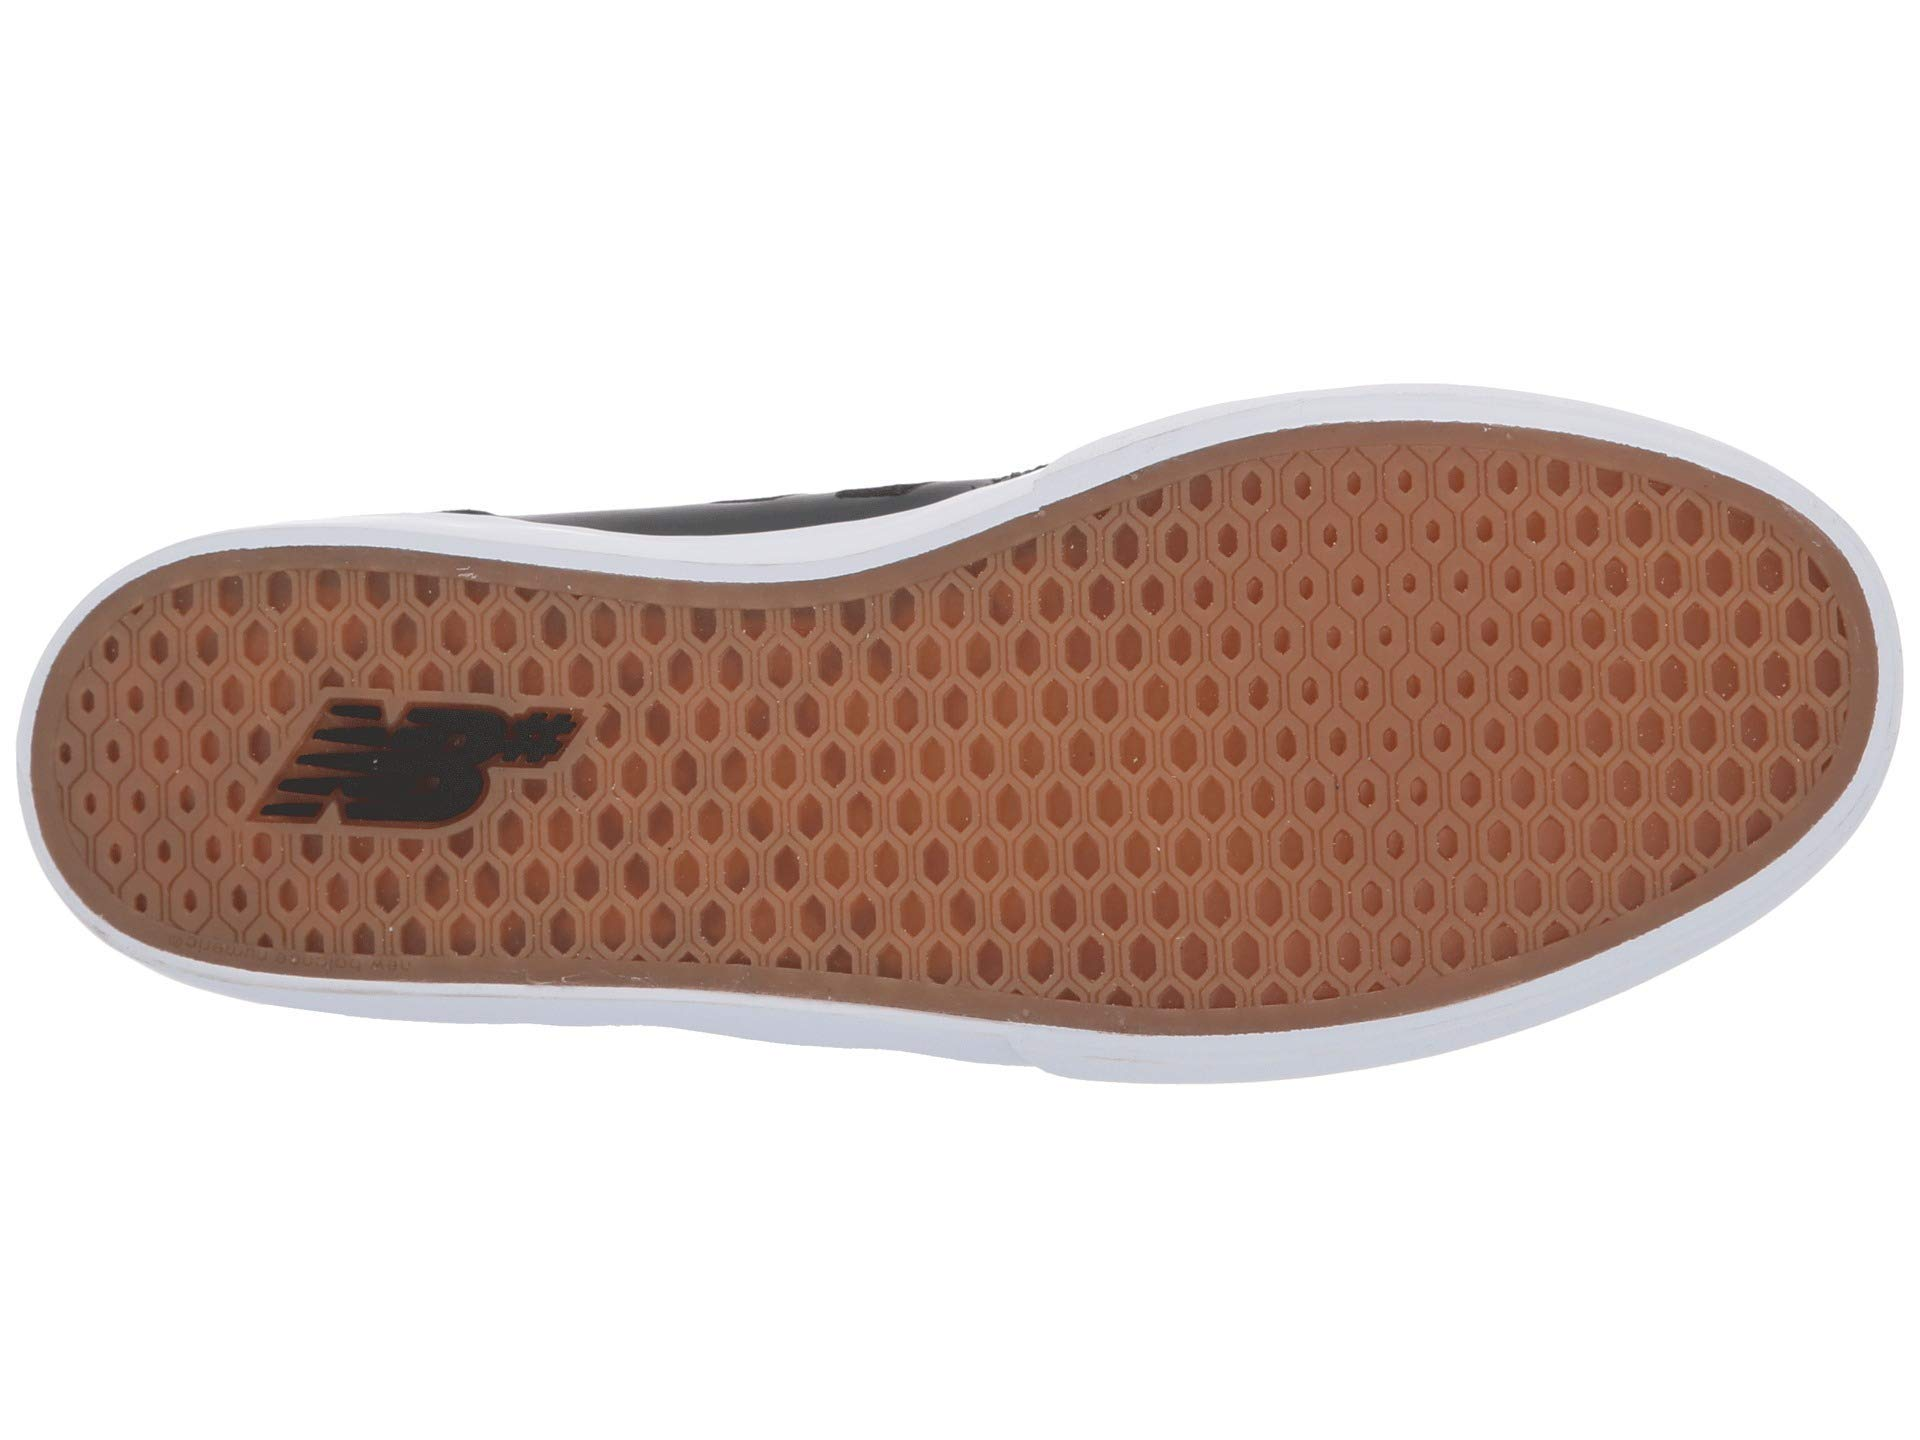polygon: (166, 631, 674, 923), (776, 620, 1117, 947), (1150, 545, 1439, 862), (1522, 566, 1769, 846)
quad: (166, 631, 674, 923)
text: (166, 631, 674, 923)
